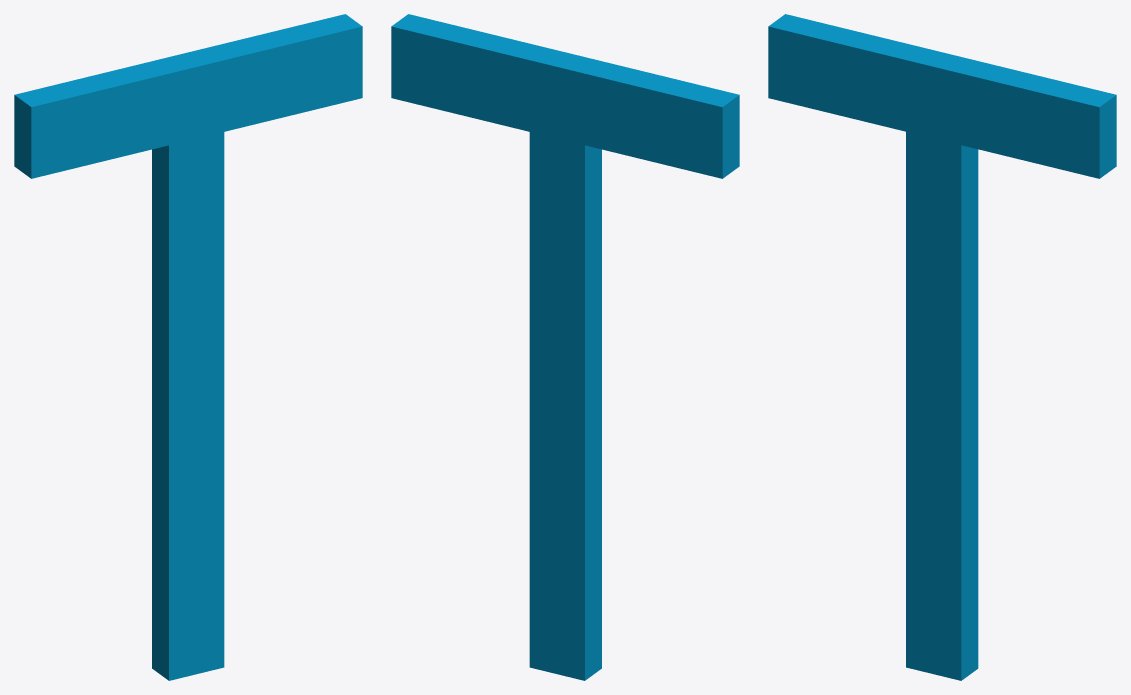
The model's file is original-43.obj.
3 renders of one model, left to right at view 1: azimuth 30°, elevation 25°; view 2: azimuth 150°, elevation 25°; view 3: azimuth 330°, elevation 25°, orthographic.
Parts seen in each view (by area): view 1: mesh55/mesh55-geometry#mesh55-geometry; view 2: mesh55/mesh55-geometry#mesh55-geometry; view 3: mesh55/mesh55-geometry#mesh55-geometry.
Boxes of the visible parts, x1=… form: mesh55/mesh55-geometry#mesh55-geometry: x1=14, y1=14, x2=362, y2=680; mesh55/mesh55-geometry#mesh55-geometry: x1=391, y1=14, x2=739, y2=680; mesh55/mesh55-geometry#mesh55-geometry: x1=768, y1=14, x2=1116, y2=680.
Bounding box in the file's own units: 0.0126 × 0.0221 × 0.00113.
